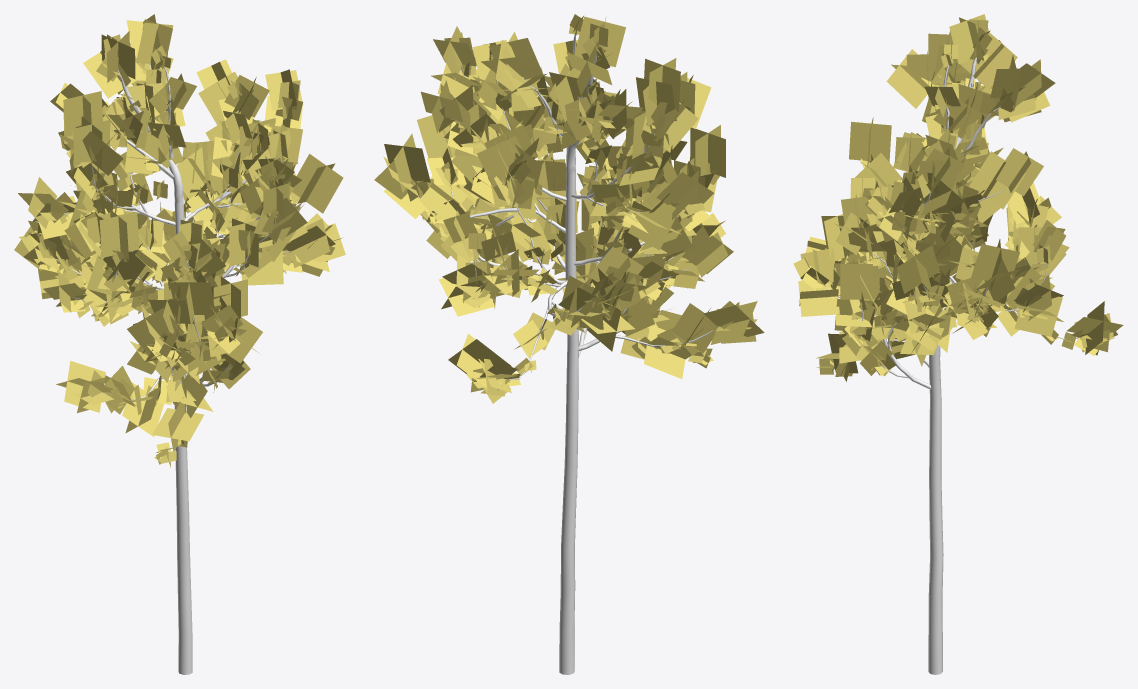
File: maple_gold.glb
3 renders of one model, left to right at view 1: azimuth 30°, elevation 25°; view 2: azimuth 150°, elevation 25°; view 3: azimuth 270°, elevation 25°, orthographic. The views are drawn at different scales.
Parts seen in each view (by area): view 1: leaves, branches; view 2: leaves, branches; view 3: leaves, branches.
Boxes of the visible parts, x1=… form: leaves: x1=14, y1=14, x2=345, y2=467; branches: x1=56, y1=63, x2=305, y2=674; leaves: x1=374, y1=14, x2=764, y2=403; branches: x1=412, y1=30, x2=713, y2=674; leaves: x1=793, y1=14, x2=1123, y2=381; branches: x1=826, y1=57, x2=1079, y2=674.
Size of the model in its own units: 33.82 by 67.83 by 32.2.
